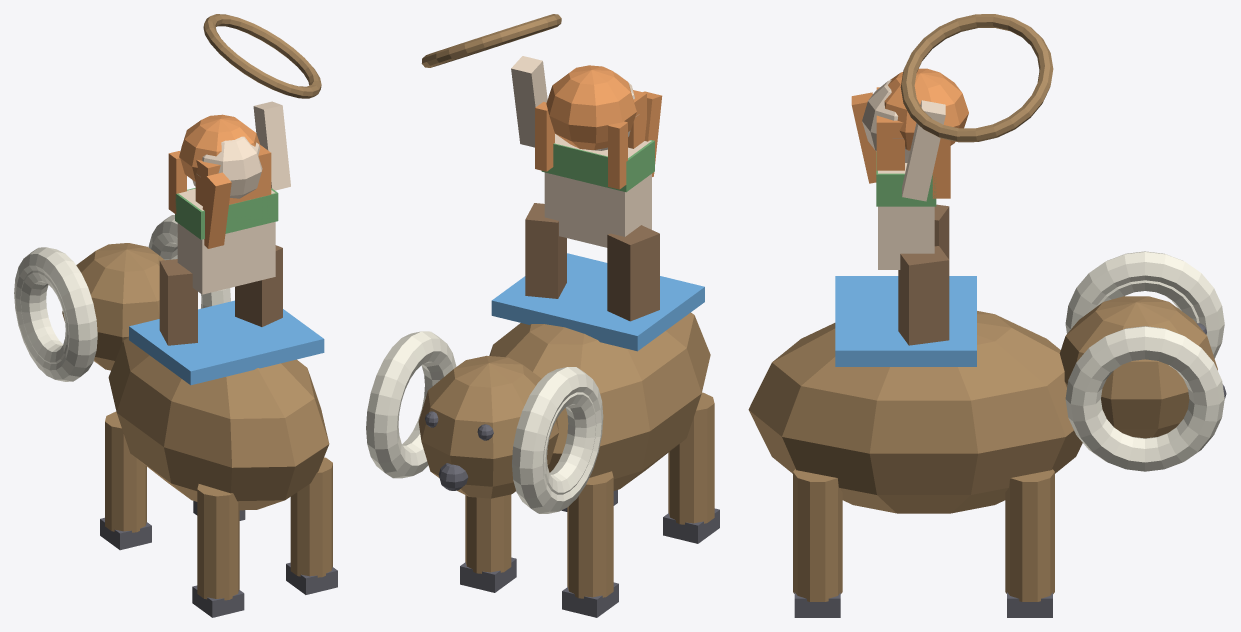
File: ram_rider.glb
The picture shows the model from 3 angles, left to right: view 1: azimuth 30°, elevation 25°; view 2: azimuth 150°, elevation 25°; view 3: azimuth 270°, elevation 25°; orthographic projection. The views are drawn at different scales.
Parts seen in each view (by area): view 1: ram_rider; view 2: ram_rider; view 3: ram_rider.
Part boxes in pixels (x1,y1,x2,y2): ram_rider: (14,14,337,617); ram_rider: (366,14,719,617); ram_rider: (748,14,1226,617).
Size of the model in its own units: 1.79 by 4.35 by 3.24.
